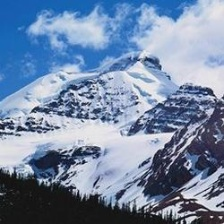neutral: (2, 15, 223, 224)
